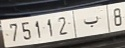1: (34, 19, 41, 40), (46, 17, 53, 38)
2: (57, 16, 67, 35)
5: (21, 21, 32, 40)
7: (9, 22, 18, 43)
8: (113, 8, 123, 27)
b: (81, 16, 100, 28)
